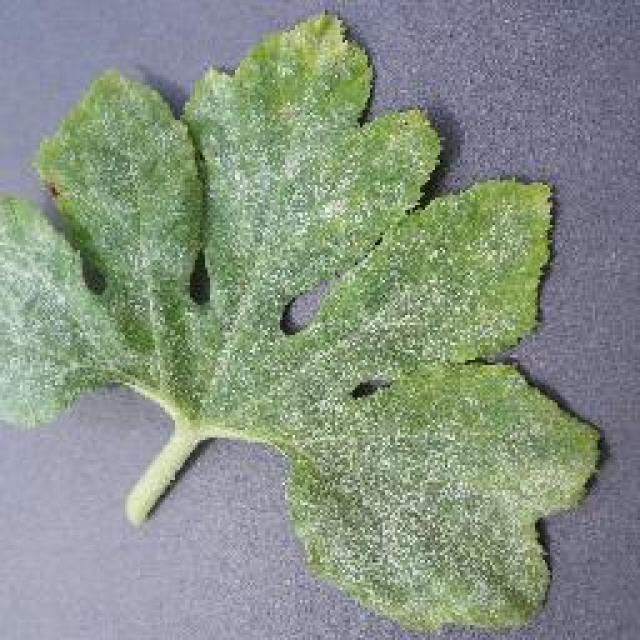Squ_Powdery_mildew: (84, 110, 357, 303), (318, 360, 518, 586)
